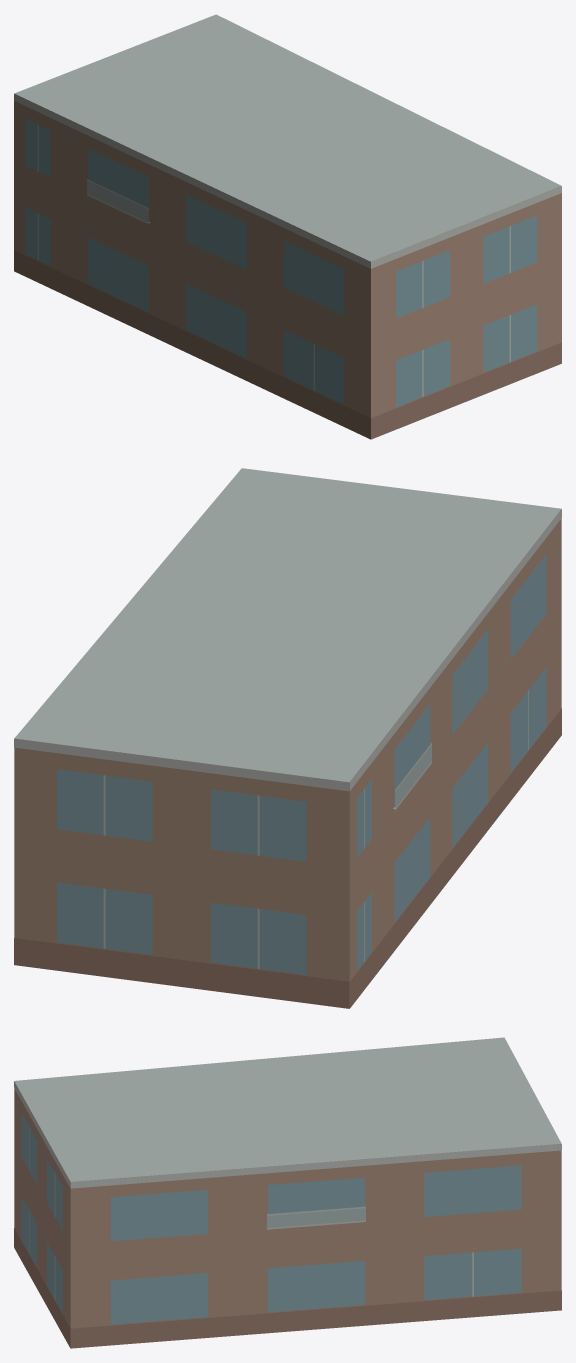
File: survey-upis-32560803.glb
3 views of the same model, one above another, from view 1: azimuth 30°, elevation 25°; view 2: azimuth 150°, elevation 25°; view 3: azimuth 270°, elevation 25° (orthographic). The views are drawn at different scales.
Parts seen in each view (by area): view 1: survey-upis-32560803.tmp; view 2: survey-upis-32560803.tmp; view 3: survey-upis-32560803.tmp.
Part boxes in pixels (<box>): survey-upis-32560803.tmp: <box>14,14,561,439</box>; survey-upis-32560803.tmp: <box>14,468,561,1008</box>; survey-upis-32560803.tmp: <box>14,1037,561,1348</box>.
Bounding box in the file's own units: 11.37 × 6.1 × 18.19.
